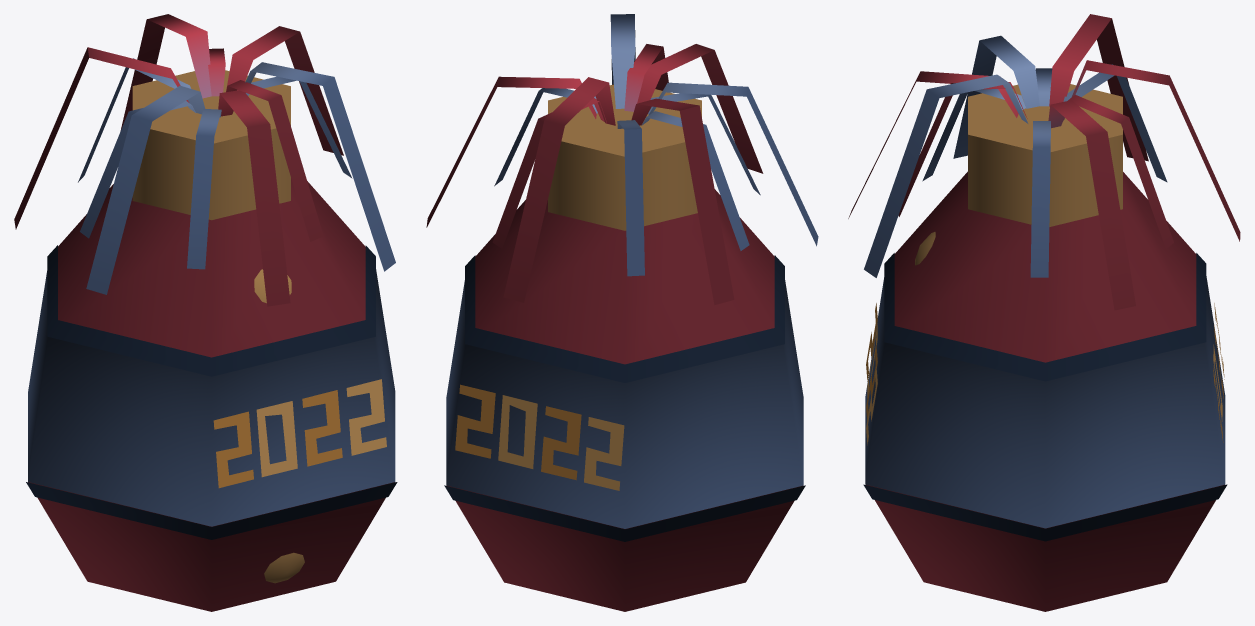
File: grenade_NewYear2022.glb
3 views of the same model, side by side, from view 1: azimuth 30°, elevation 25°; view 2: azimuth 150°, elevation 25°; view 3: azimuth 270°, elevation 25° (orthographic). The views are drawn at different scales.
Visible parts, largest first — view 1: grenade_NewYear2022; view 2: grenade_NewYear2022; view 3: grenade_NewYear2022.
Part boxes in pixels (x1,y1,x2,y2): grenade_NewYear2022: (14,14,397,611); grenade_NewYear2022: (426,14,818,611); grenade_NewYear2022: (848,14,1240,611).
Size of the model in its own units: 0.1227 by 0.1717 by 0.1145.
